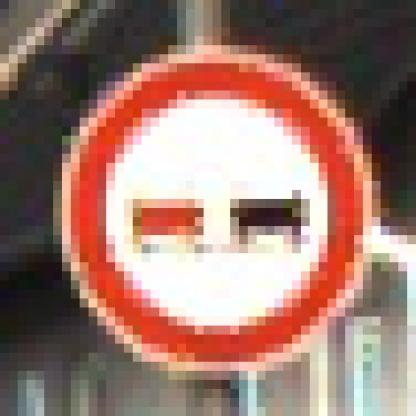No Overtaking: (54, 46, 373, 372)
